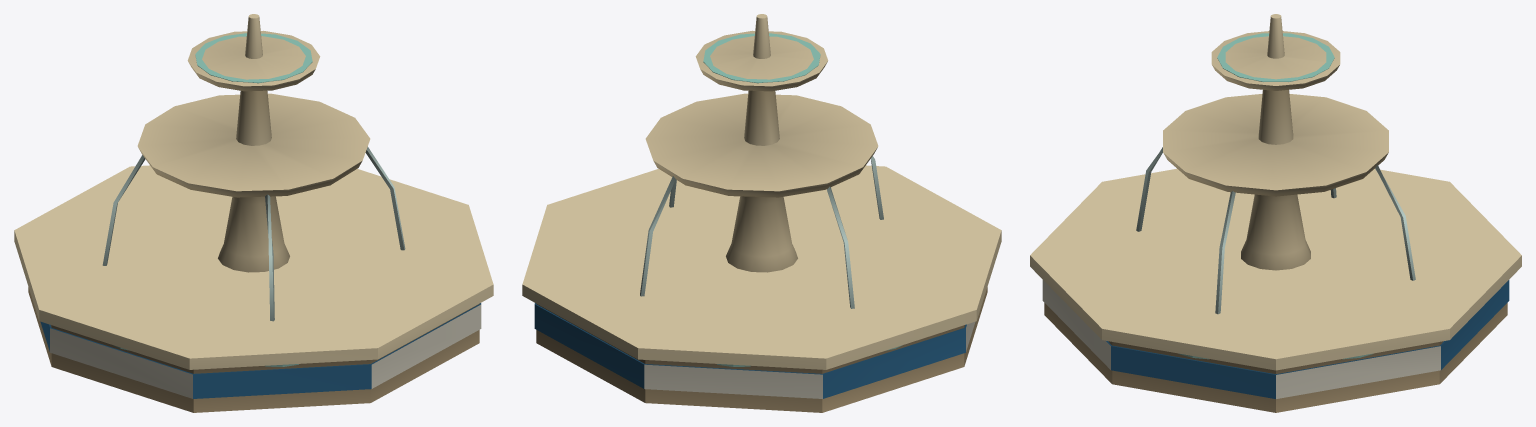
Rendered from fountain_plaza.glb.
The picture shows the model from 3 angles, left to right: view 1: azimuth 30°, elevation 25°; view 2: azimuth 150°, elevation 25°; view 3: azimuth 270°, elevation 25°; orthographic projection.
Parts seen in each view (by area): view 1: fountain_plaza_mesh; view 2: fountain_plaza_mesh; view 3: fountain_plaza_mesh.
Part boxes in pixels (box(x1,y1,x2,y2)): fountain_plaza_mesh: box(14, 14, 493, 412); fountain_plaza_mesh: box(522, 14, 1001, 412); fountain_plaza_mesh: box(1030, 14, 1521, 412).
Size of the model in its own units: 5.52 by 3.7 by 5.52.
